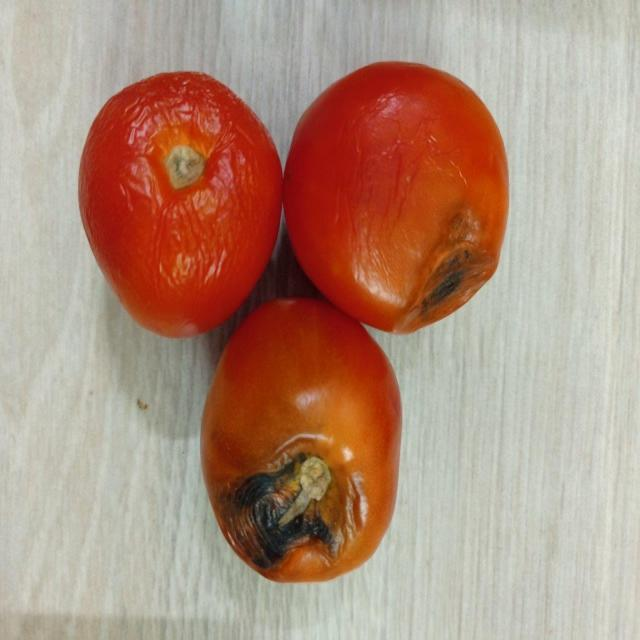Rotten: (282, 58, 508, 336), (204, 295, 403, 585)
overripe: (76, 68, 284, 336)
